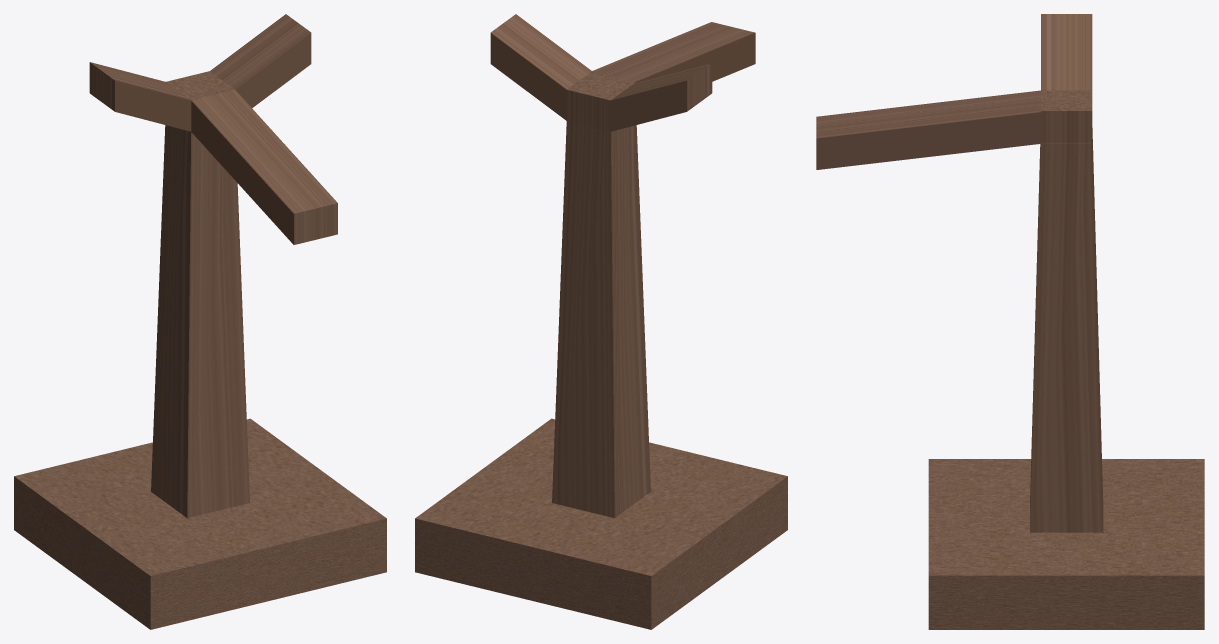
The model's file is el_altlıgı.fbx.
3 renders of one model, left to right at view 1: azimuth 30°, elevation 25°; view 2: azimuth 150°, elevation 25°; view 3: azimuth 270°, elevation 25°, orthographic.
Parts seen in each view (by area): view 1: el_altlığı; view 2: el_altlığı; view 3: el_altlığı.
Boxes of the visible parts, box(x1,y1,x2,y2) form: el_altlığı: box(14, 14, 386, 629); el_altlığı: box(415, 14, 787, 629); el_altlığı: box(816, 14, 1204, 629).
Size of the model in its own units: 310 by 632 by 437.
